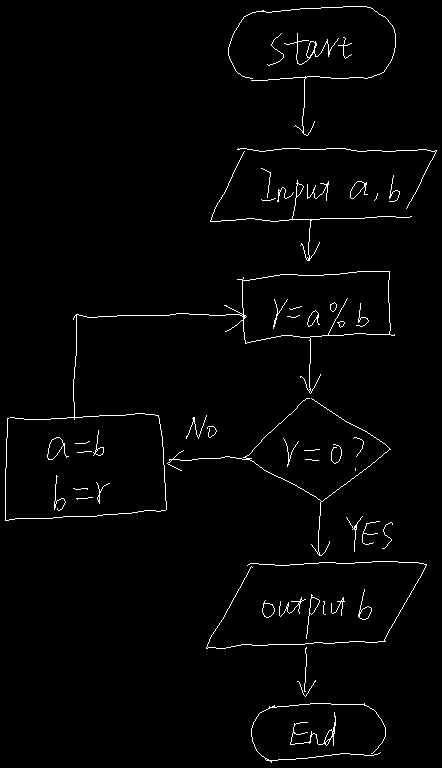arrow: (73, 305, 246, 419), (167, 450, 251, 470), (294, 76, 314, 135), (300, 338, 320, 393), (311, 502, 329, 555), (297, 647, 315, 696), (300, 220, 319, 260)
data: (206, 561, 426, 648), (210, 148, 436, 221)
decision: (243, 398, 390, 502)
process: (5, 413, 166, 520), (237, 271, 394, 343)
terminator: (228, 6, 395, 80), (251, 703, 385, 762)
text: (261, 168, 399, 218), (262, 589, 371, 638), (47, 430, 109, 510), (273, 298, 368, 335), (267, 33, 351, 65), (283, 437, 363, 470), (346, 516, 392, 551), (290, 712, 335, 745), (186, 415, 216, 438)
